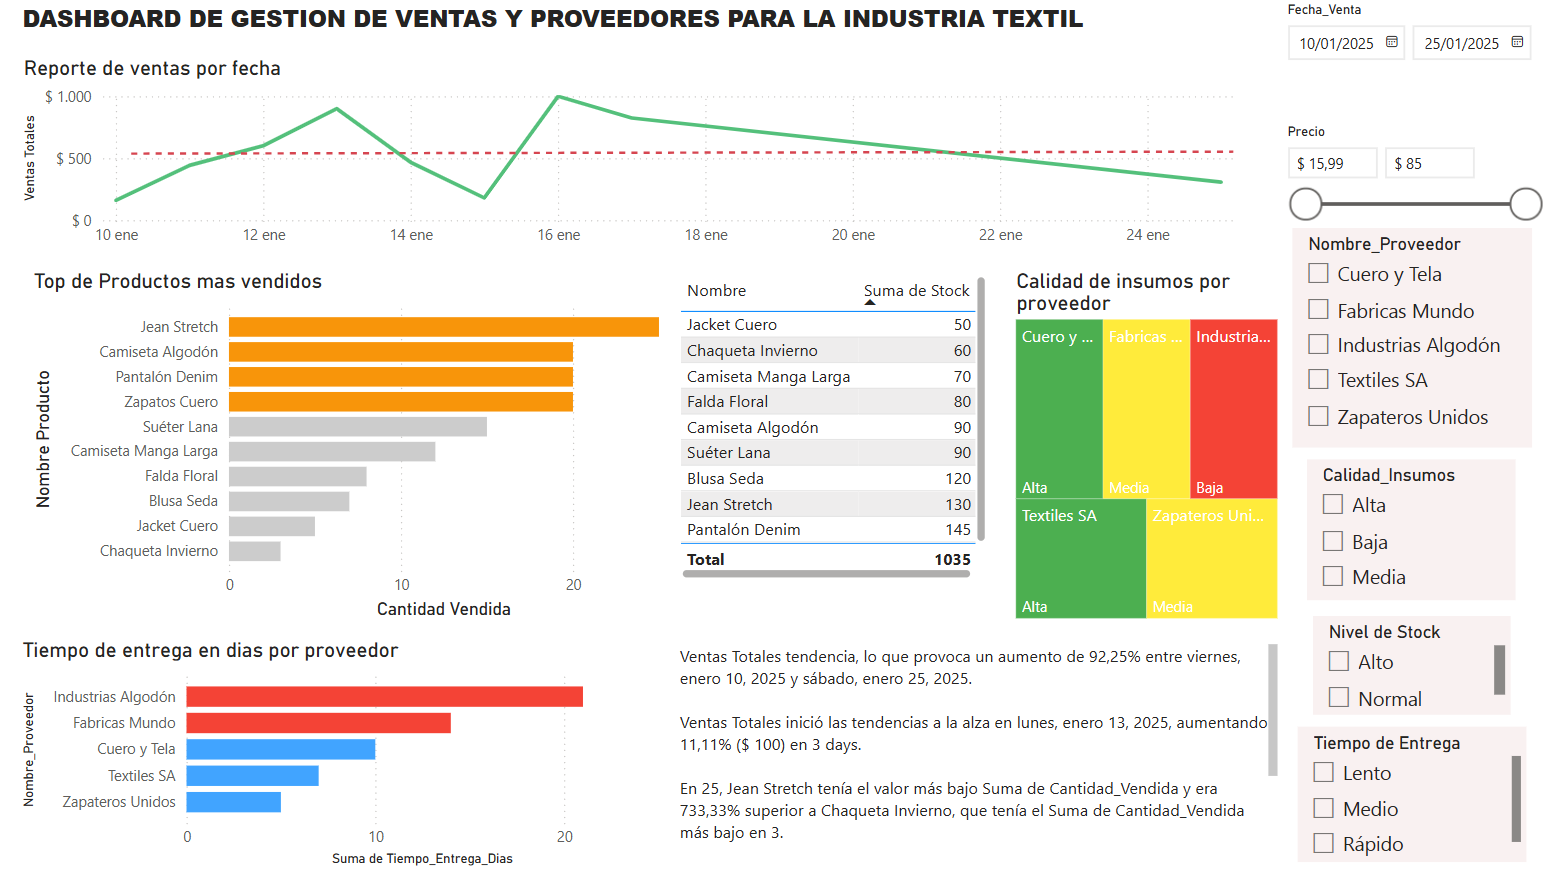

What the dashboard file says about the page in this screenshot:
{"tool":"powerbi","page":{"name":"Dashboard","canvas":[1280,720],"ordinal":0},"visuals":[{"type":"lineChart","title":"Reporte de ventas por fecha","fields":{"Y":["ventas.Ventas Totales"],"Category":["ventas.Fecha_Venta"]},"box":[12.2,50,1010,165.6],"z":0},{"type":"barChart","title":"Top de Productos mas vendidos","fields":{"Category":["inventario.Nombre"],"Y":["Sum(ventas.Cantidad_Vendida)"]},"box":[20,224.4,530,291.1],"z":1000},{"type":"tableEx","fields":{"Values":["inventario.Nombre","Sum(inventario.Stock)"]},"box":[550,224.4,261.1,258.9],"z":2000},{"type":"clusteredBarChart","title":"Tiempo de entrega en dias por proveedor","fields":{"Category":["proveedores.Nombre_Proveedor"],"Y":["Sum(proveedores.Tiempo_Entrega_Dias)"]},"box":[11.1,526.7,538.9,191.1],"z":3000},{"type":"treemap","title":"Calidad de insumos por proveedor","fields":{"Group":["proveedores.Nombre_Proveedor"],"Details":["proveedores.Calidad_Insumos (grupos)"],"Values":["CountNonNull(proveedores.Calidad_Insumos)"]},"box":[825.6,224.4,224.4,291.1],"z":4000},{"type":"slicer","fields":{"Values":["proveedores.Calidad_Insumos"]},"box":[1069,380,171,115],"z":5000},{"type":"slicer","fields":{"Values":["ventas.Fecha_Venta"]},"box":[1040,0,228,90],"z":6000},{"type":"slicer","fields":{"Values":["proveedores.Nombre_Proveedor"]},"box":[1057,190,196,180],"z":7000},{"type":"slicer","fields":{"Values":["inventario.Precio"]},"box":[1040,100,230,90],"z":8000},{"type":"slicer","fields":{"Values":["inventario.Nivel de Stock"]},"box":[1074,508,162,81],"z":9000},{"type":"slicer","fields":{"Values":["proveedores.Tiempo de Entrega"]},"box":[1061,599,188,111],"z":10000},{"type":"textbox","box":[550,526.7,500,191.1],"z":11000},{"type":"textbox","box":[11.1,0,1011.1,50],"z":12000}]}

Visuals, with their boxes in screenshot pixels (x1, y1, x2, y2), scaled from the page's 1280x720 canvas onto the 1547x873 screenshot:
"Reporte de ventas por fecha" lineChart: [x1=15, y1=61, x2=1235, y2=261]
"Top de Productos mas vendidos" barChart: [x1=24, y1=272, x2=665, y2=625]
tableEx - inventario.Nombre x Sum(inventario.Stock): [x1=665, y1=272, x2=980, y2=586]
"Tiempo de entrega en dias por proveedor" clusteredBarChart: [x1=13, y1=639, x2=665, y2=870]
"Calidad de insumos por proveedor" treemap: [x1=998, y1=272, x2=1269, y2=625]
slicer - proveedores.Calidad_Insumos: [x1=1292, y1=461, x2=1499, y2=600]
slicer - ventas.Fecha_Venta: [x1=1257, y1=0, x2=1532, y2=109]
slicer - proveedores.Nombre_Proveedor: [x1=1277, y1=230, x2=1514, y2=449]
slicer - inventario.Precio: [x1=1257, y1=121, x2=1535, y2=230]
slicer - inventario.Nivel de Stock: [x1=1298, y1=616, x2=1494, y2=714]
slicer - proveedores.Tiempo de Entrega: [x1=1282, y1=726, x2=1510, y2=861]
textbox: [x1=665, y1=639, x2=1269, y2=870]
textbox: [x1=13, y1=0, x2=1235, y2=61]
